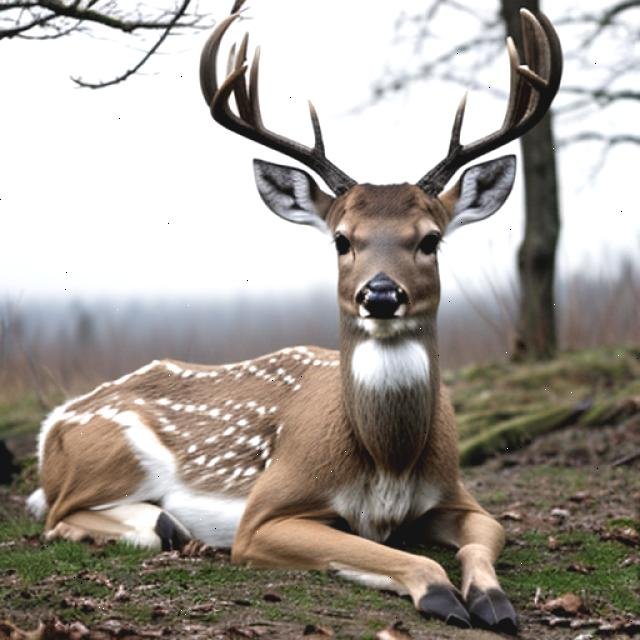deer: (36, 1, 562, 574)
